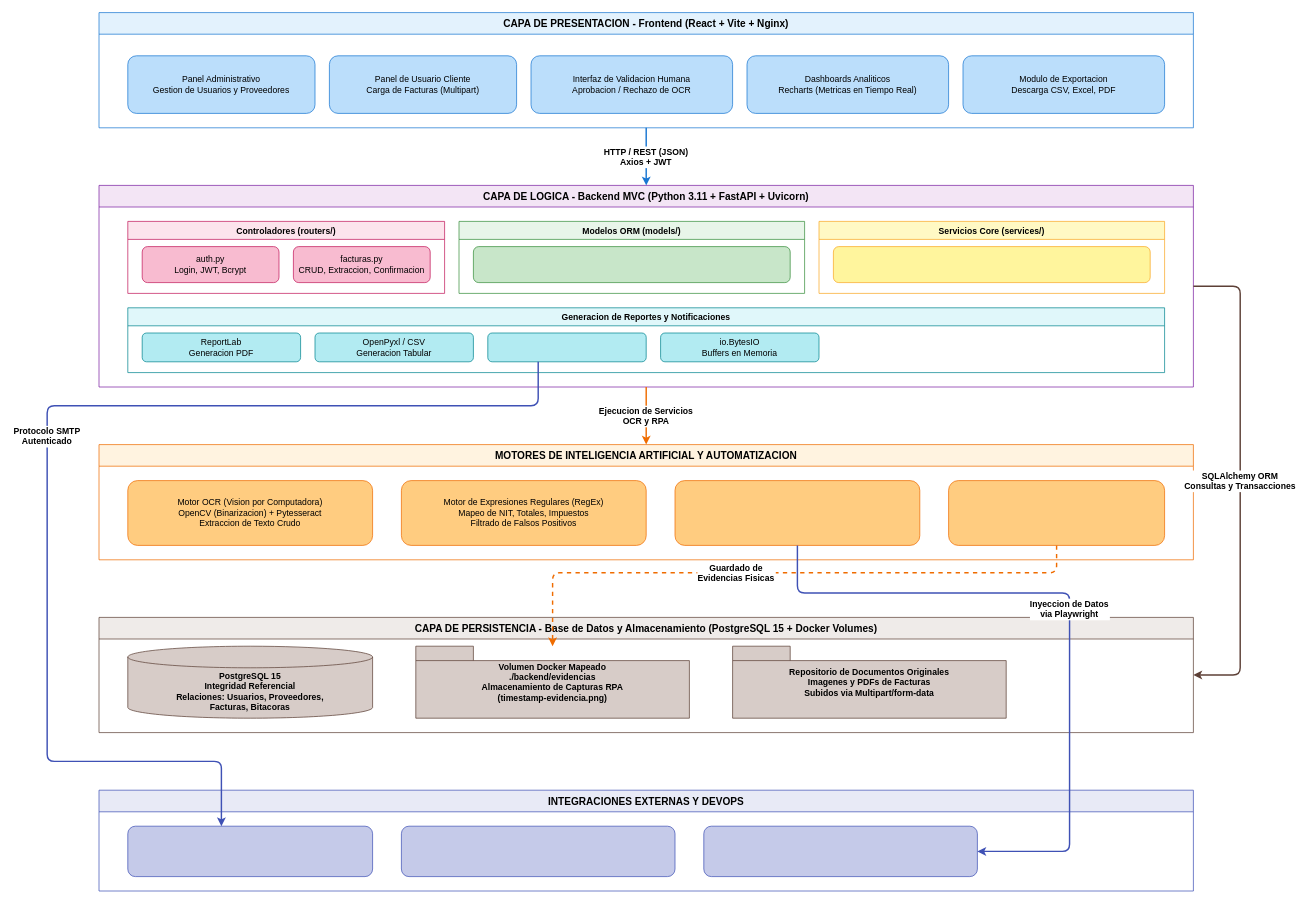
Image size: 1309x904. Some labels were removed from this diagram. Each missing label, with the centre of its shape:
Brevo (Sendinblue) Relay SMTP Externo Notificaciones y Alertas: the point at 250,851
Cliente SMTP Envio de Correos: the point at 566,347
Docker Compose Orquestador Global de Contenedores Redes y Volumenes Persistentes: the point at 538,851
Generador de Evidencias Capturas de Pantalla (DOM) Guardado en Volumen Fisico: the point at 1056,512
Orquestador de Flujo State Locking y Concurrencia: the point at 991,264
Robot RPA (Playwright) Chromium Headless Inyeccion via Selectores CSS: the point at 797,512
Sistema ERP Simulado Destino Final del Robot RPA (Formulario DOM Virtual): the point at 840,851
USUARIOS | PROVEEDORES | FACTURAS | BITACORAS: the point at 631,264
